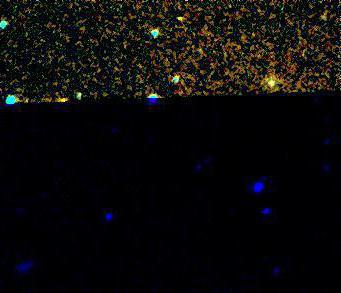star: (166, 3, 196, 33)
